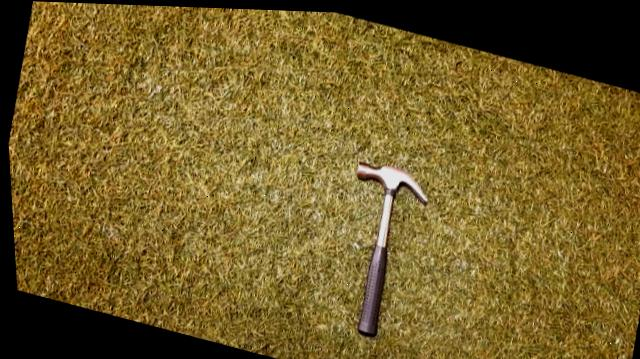hammer: (314, 141, 453, 346)
